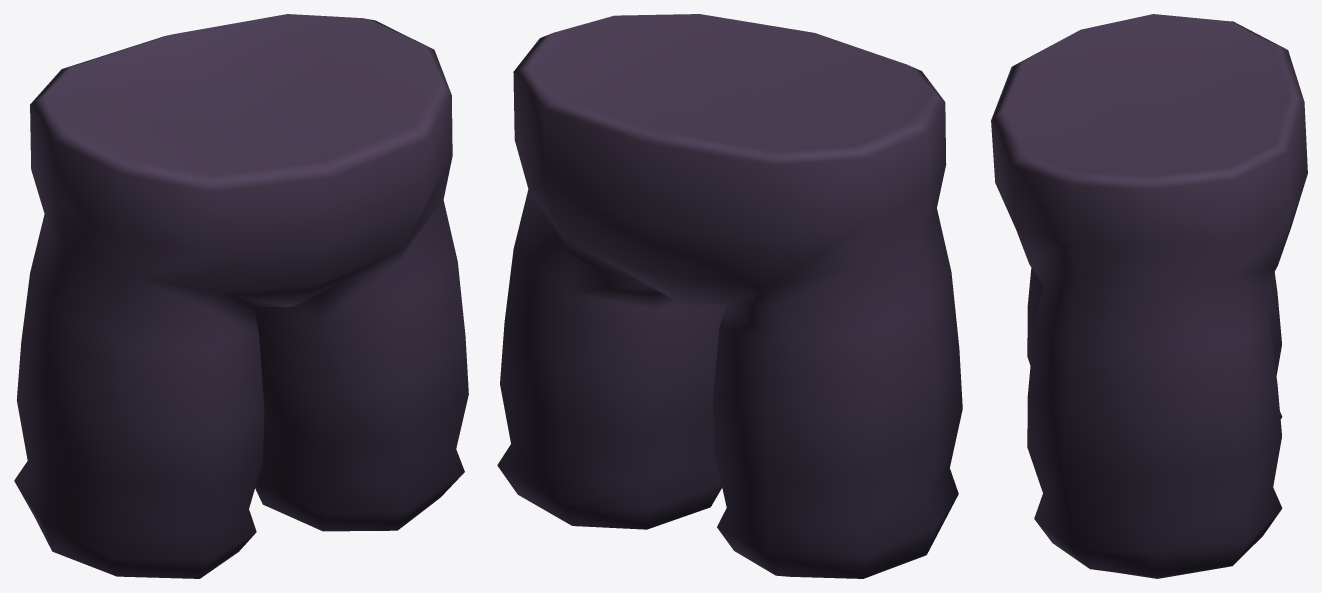
The model's file is Legs_5.fbx.
3 renders of one model, left to right at view 1: azimuth 30°, elevation 25°; view 2: azimuth 150°, elevation 25°; view 3: azimuth 270°, elevation 25°, orthographic. The views are drawn at different scales.
Parts seen in each view (by area): view 1: Legs_5; view 2: Legs_5; view 3: Legs_5.
Part boxes in pixels (x1,y1,x2,y2): Legs_5: (14, 14, 468, 578); Legs_5: (497, 14, 962, 578); Legs_5: (991, 14, 1307, 578).
Size of the model in its own units: 40.89 by 42.48 by 29.68.
